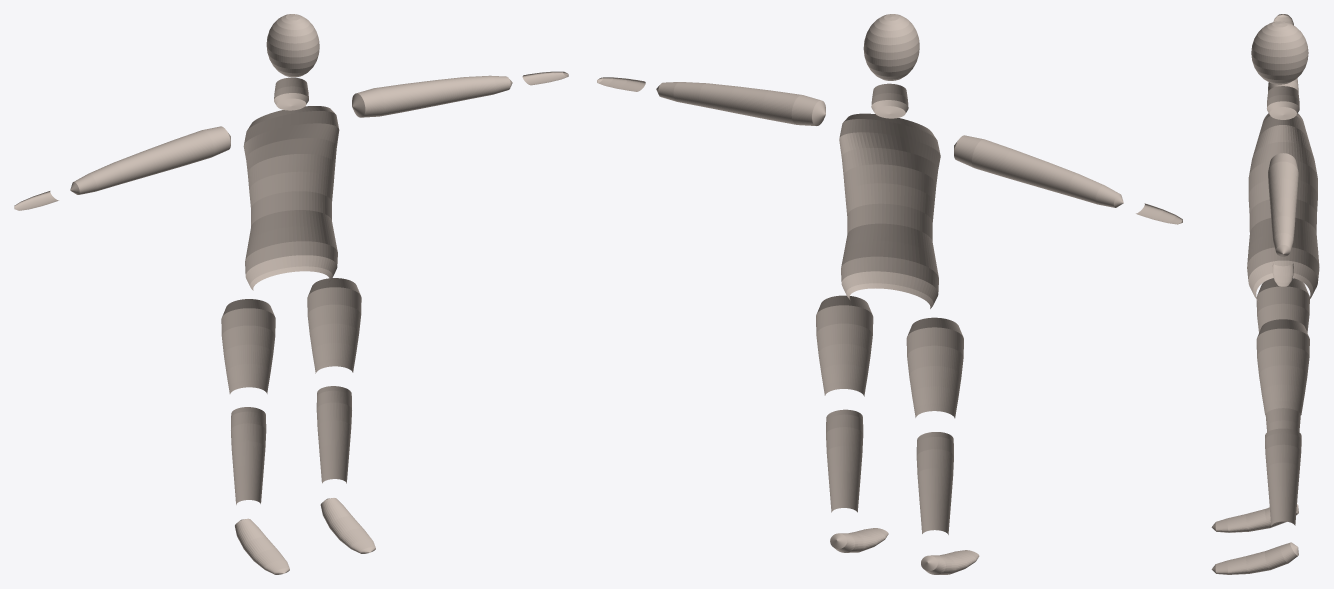
Rendered from body_mesh.glb.
3 views of the same model, side by side, from view 1: azimuth 30°, elevation 25°; view 2: azimuth 150°, elevation 25°; view 3: azimuth 270°, elevation 25° (orthographic). The views are drawn at different scales.
Visible parts, largest first — view 1: world; view 2: world; view 3: world.
Part boxes in pixels (box(x1,y1,x2,y2)): world: box(14, 14, 568, 574); world: box(597, 14, 1182, 574); world: box(1211, 14, 1319, 574).
Size of the model in its own units: 2 by 1.81 by 0.3354.
